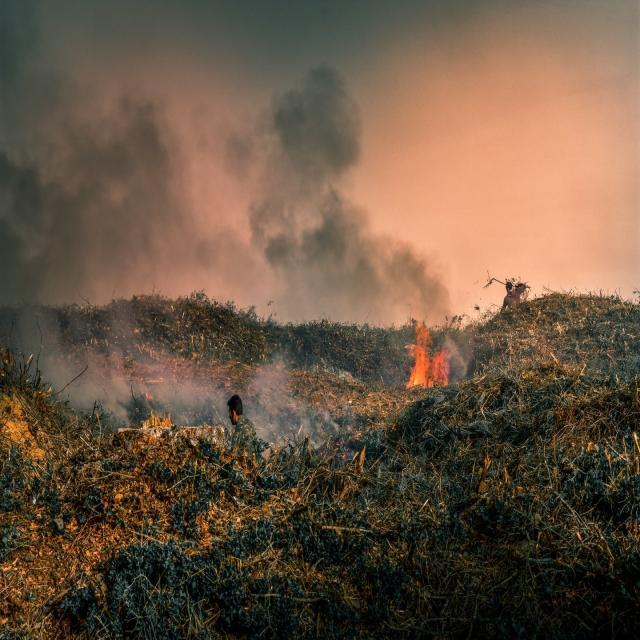Fire: (402, 322, 452, 399)
Smoke: (239, 59, 457, 325), (3, 111, 211, 304)
